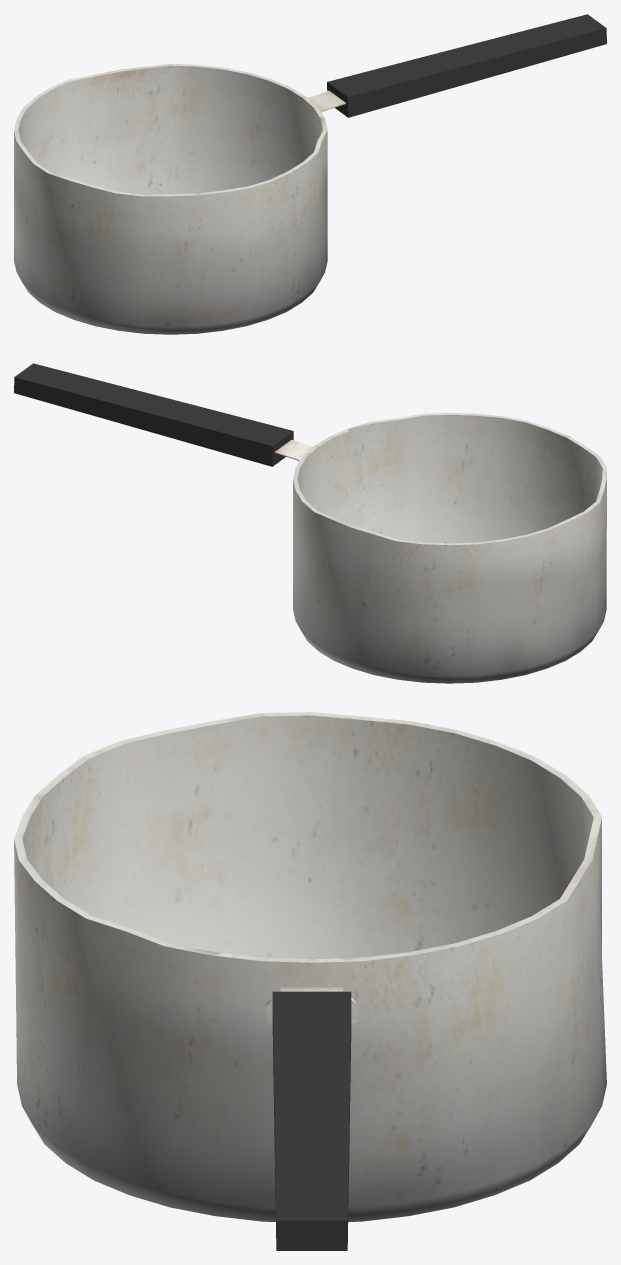
The model's file is Pan02.FBX.
3 views of the same model, one above another, from view 1: azimuth 30°, elevation 25°; view 2: azimuth 150°, elevation 25°; view 3: azimuth 270°, elevation 25° (orthographic). The views are drawn at different scales.
Visible parts, largest first — view 1: Pan02_LOD0; view 2: Pan02_LOD0; view 3: Pan02_LOD0.
Part boxes in pixels (x1,y1,x2,y2): Pan02_LOD0: [14, 14, 606, 334]; Pan02_LOD0: [14, 363, 606, 683]; Pan02_LOD0: [14, 712, 606, 1250].
Size of the model in its own units: 21.93 by 10.61 by 5.53.
